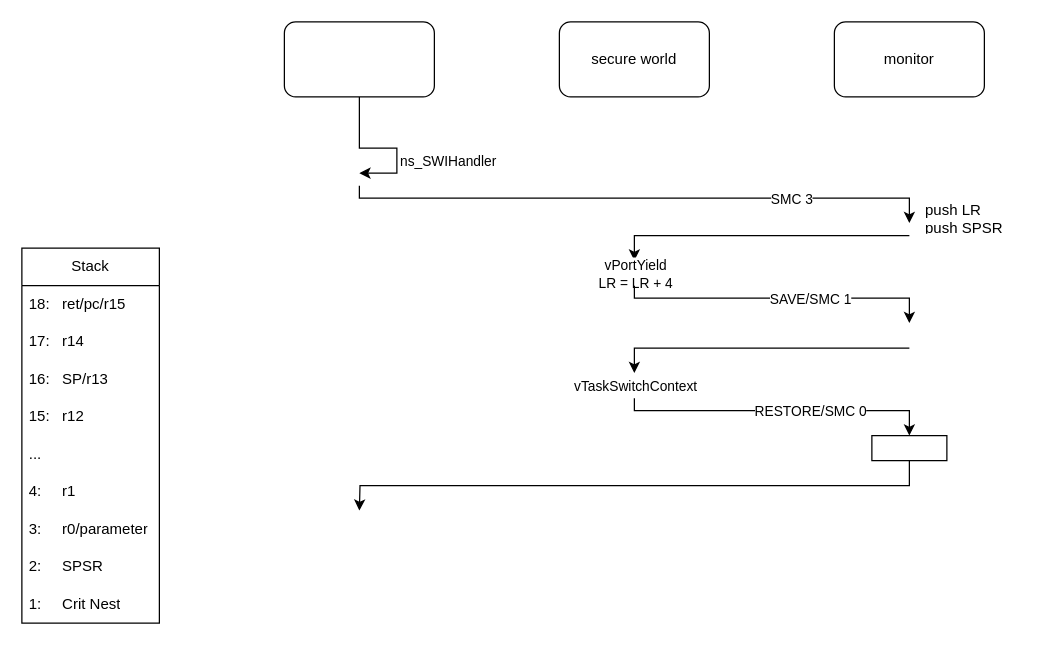
Some shapes in this 1040 by 645 pixel diagram are drawn without their labels. Each missing label, with the centre of its shape:
"Detection" goes at point (909, 447).
"task / normal world" goes at point (358, 59).
